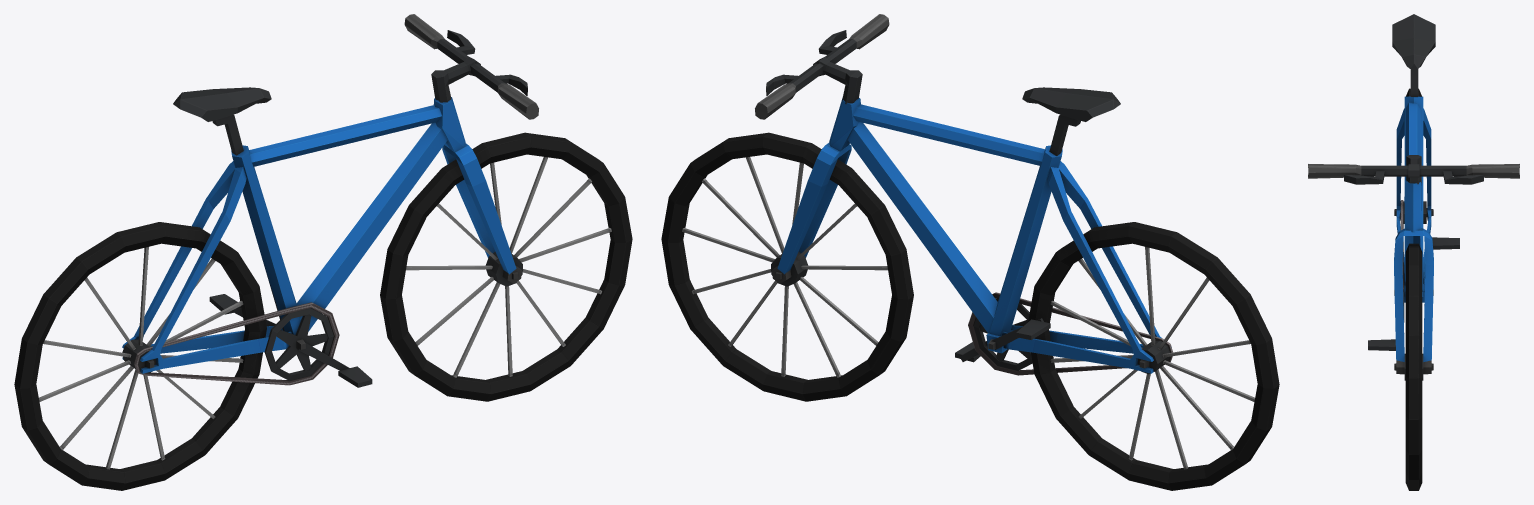
Rendered from Bicycle.glb.
3 renders of one model, left to right at view 1: azimuth 30°, elevation 25°; view 2: azimuth 150°, elevation 25°; view 3: azimuth 270°, elevation 25°, orthographic. The views are drawn at different scales.
Parts seen in each view (by area): view 1: Bike_mesh; view 2: Bike_mesh; view 3: Bike_mesh.
Boxes of the visible parts, bbox=[...] form: Bike_mesh: bbox=[14, 14, 632, 490]; Bike_mesh: bbox=[661, 14, 1279, 490]; Bike_mesh: bbox=[1308, 14, 1519, 490].
Bounding box in the file's own units: 3.61 × 2.11 × 1.24.
1 material, 1 textured.
